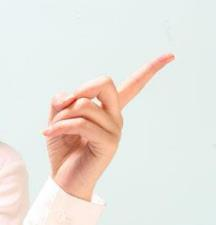up: (39, 51, 178, 178)
